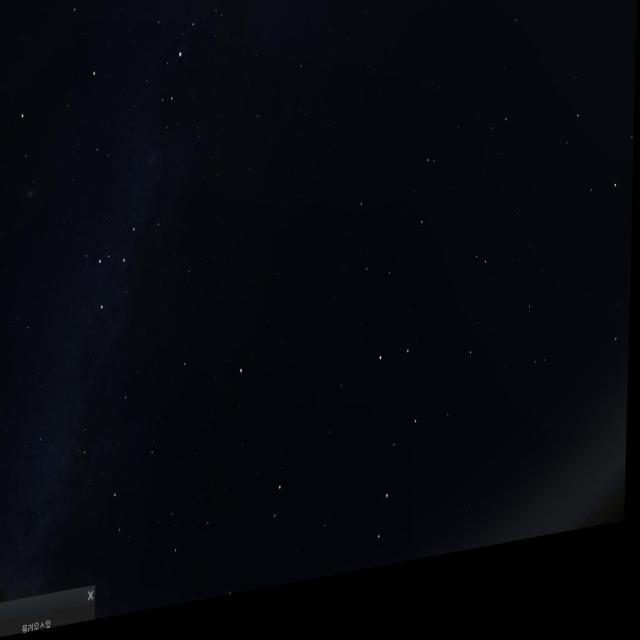ursa_major: (362, 350, 433, 585)
